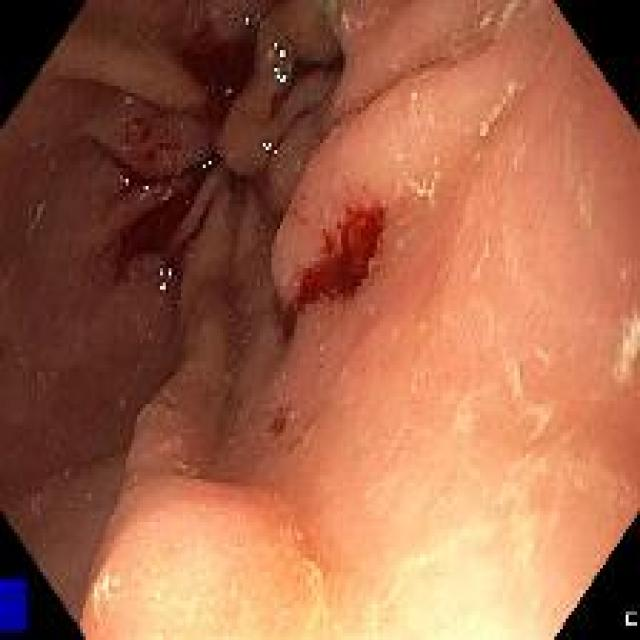blood: (285, 200, 373, 322), (111, 182, 203, 279), (176, 34, 254, 131), (276, 49, 335, 118)
color misalignment: (0, 579, 26, 633)
contrast: (5, 16, 295, 477), (7, 483, 106, 604)
saturation: (340, 439, 555, 639), (95, 527, 340, 639)
specularity: (272, 36, 290, 92), (155, 262, 176, 294), (258, 131, 282, 158), (240, 9, 253, 34), (201, 153, 213, 173), (140, 180, 153, 198), (120, 173, 133, 189), (223, 83, 233, 99)
